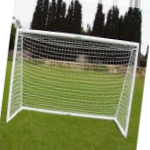goals: (9, 26, 139, 139)
